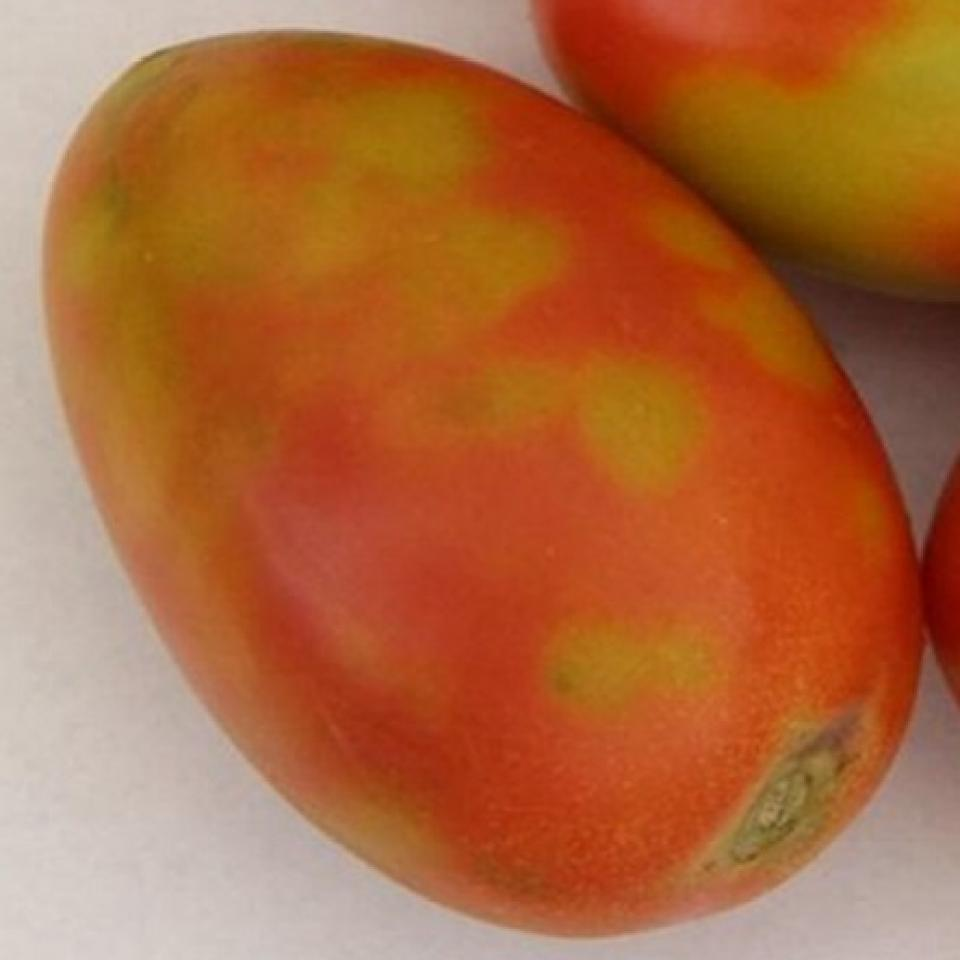Spotted wilt Virus: (50, 27, 924, 939)
